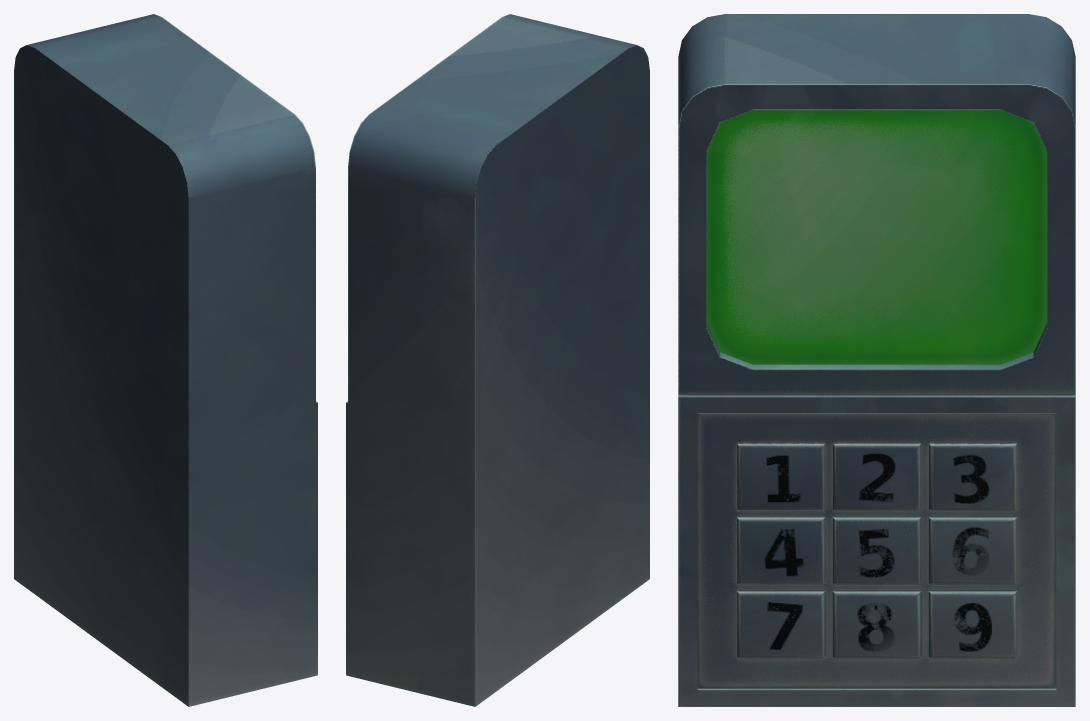
File: pip2_keypad_lvl1_bm.fbx
3 views of the same model, side by side, from view 1: azimuth 30°, elevation 25°; view 2: azimuth 150°, elevation 25°; view 3: azimuth 270°, elevation 25° (orthographic). The views are drawn at different scales.
Visible parts, largest first — view 1: keypad; view 2: keypad; view 3: keypad.
Part boxes in pixels (x1,y1,x2,y2): keypad: [14, 14, 317, 706]; keypad: [346, 14, 649, 706]; keypad: [678, 14, 1075, 706].
Bounding box in the file's own units: 8.57 × 34.45 × 19.96.
2 materials, 2 textured.
